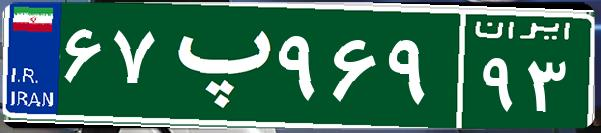3: (525, 38, 570, 115)
6: (330, 28, 385, 110), (57, 26, 110, 107)
7: (110, 28, 158, 105)
9: (385, 28, 445, 110), (273, 28, 330, 110), (475, 38, 525, 113)
پ: (158, 15, 273, 115)
